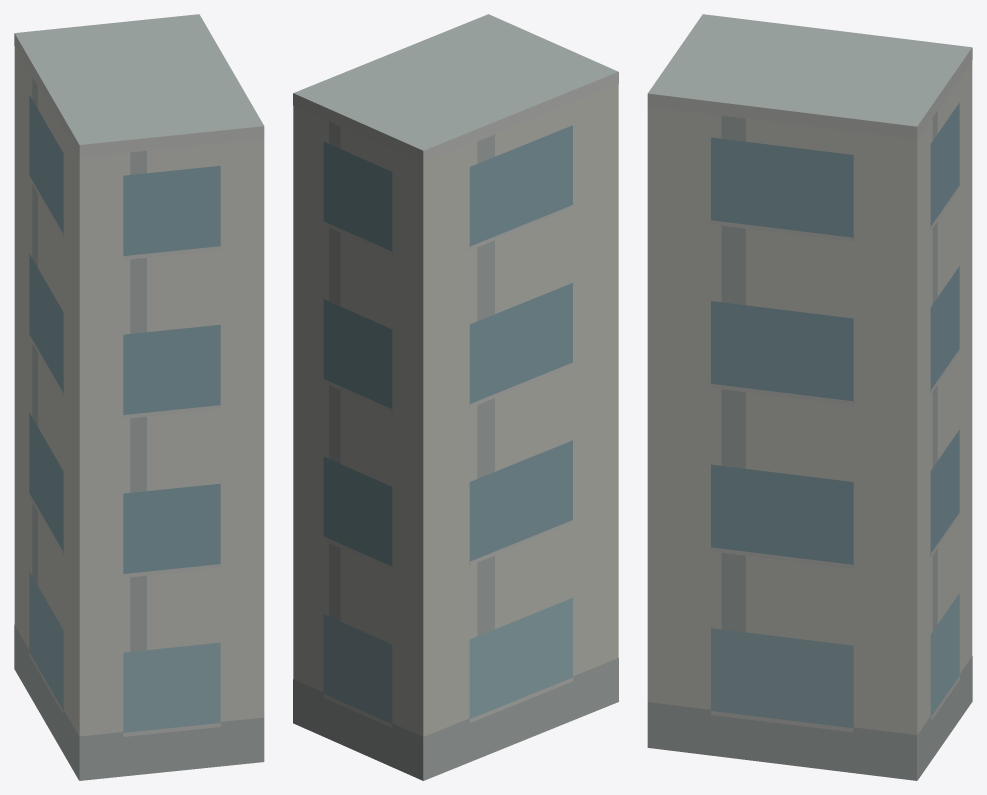
File: survey-upis-32529563.glb
The picture shows the model from 3 angles, left to right: view 1: azimuth 30°, elevation 25°; view 2: azimuth 150°, elevation 25°; view 3: azimuth 270°, elevation 25°; orthographic projection. The views are drawn at different scales.
Visible parts, largest first — view 1: survey-upis-32529563.tmp; view 2: survey-upis-32529563.tmp; view 3: survey-upis-32529563.tmp.
Boxes of the visible parts, x1,y1,x2,y2 form: survey-upis-32529563.tmp: [14, 14, 264, 780]; survey-upis-32529563.tmp: [293, 14, 618, 780]; survey-upis-32529563.tmp: [647, 14, 972, 780].
Size of the model in its own units: 4.51 by 12.2 by 5.5.
